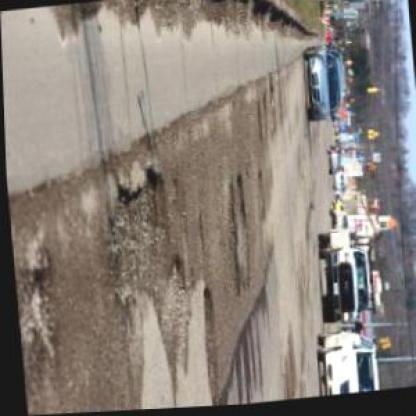pothole: (93, 162, 173, 304), (17, 252, 58, 369), (150, 255, 190, 359), (193, 280, 222, 408), (213, 176, 240, 301), (234, 173, 250, 287), (251, 167, 263, 224)
